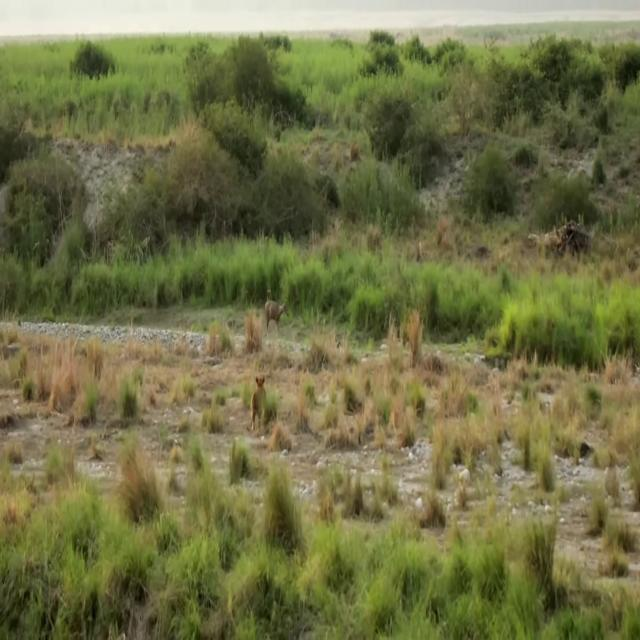tiger: (247, 374, 266, 432)
